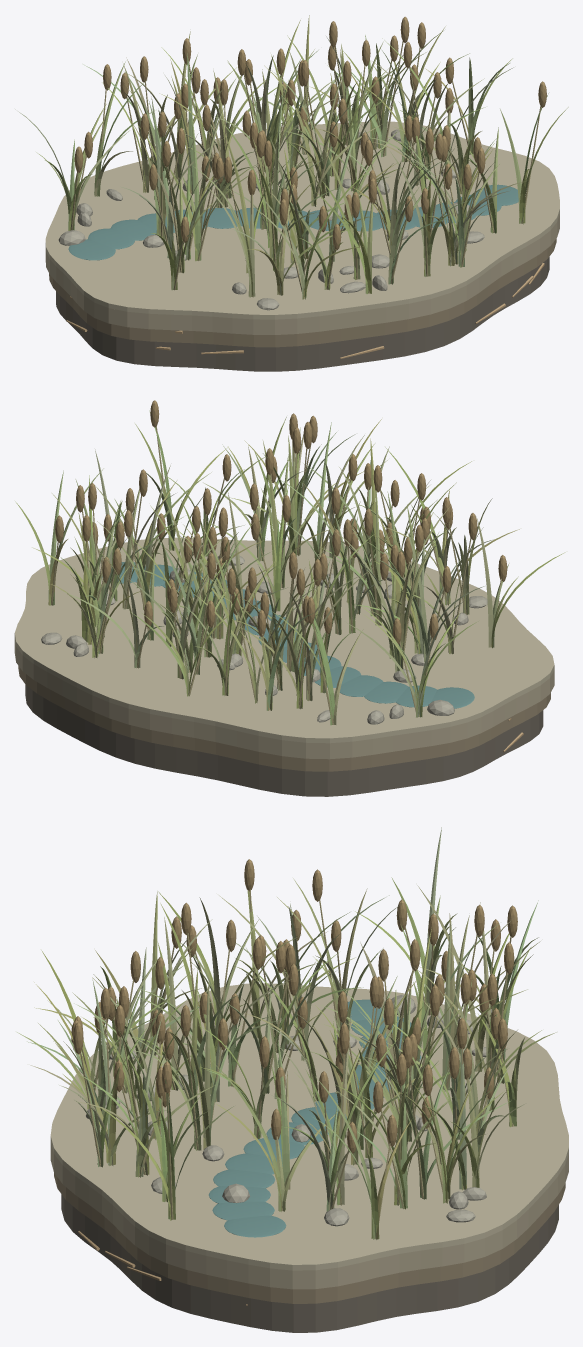
File: saltmarsh.glb
3 views of the same model, one above another, from view 1: azimuth 30°, elevation 25°; view 2: azimuth 150°, elevation 25°; view 3: azimuth 270°, elevation 25° (orthographic). The views are drawn at different scales.
Parts seen in each view (by area): view 1: world; view 2: world; view 3: world.
Part boxes in pixels (bbox=[...]): world: bbox=[15, 15, 568, 371]; world: bbox=[14, 400, 565, 796]; world: bbox=[17, 827, 568, 1332].
Bounding box in the file's own units: 1.8 × 0.7329 × 1.5.
